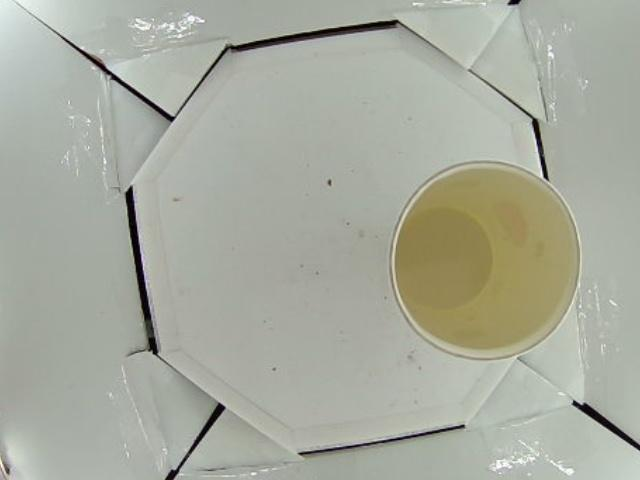Cup: (388, 160, 583, 357)
